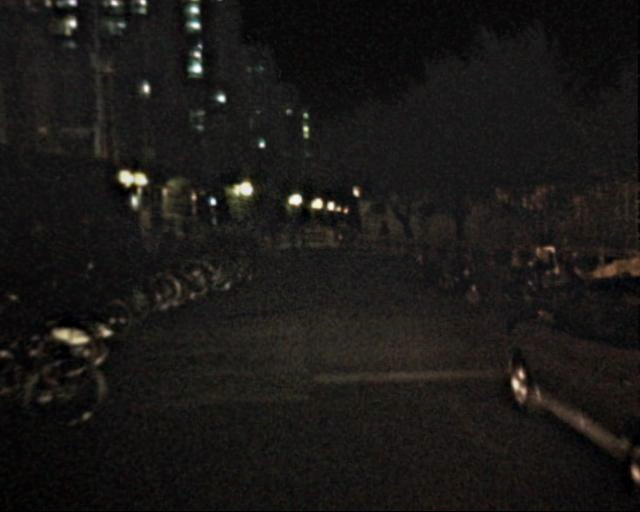person: (229, 220, 264, 246), (281, 215, 298, 256), (137, 224, 153, 263), (163, 221, 179, 259), (264, 220, 279, 257), (379, 221, 393, 256), (181, 226, 193, 256)
